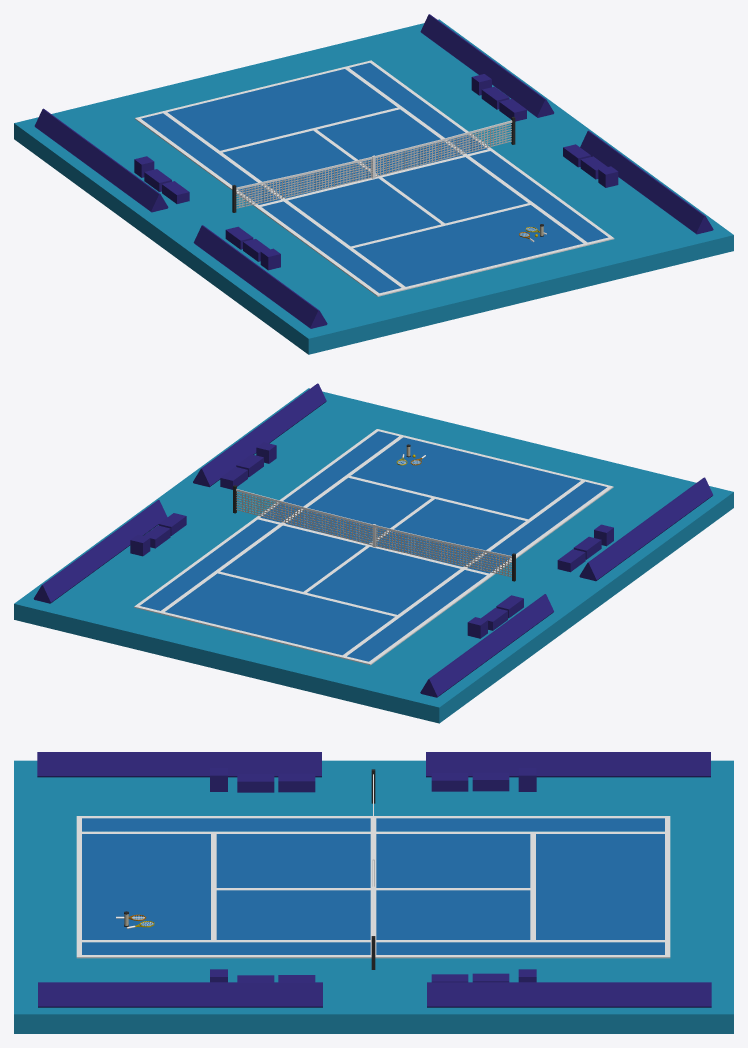
Rendered from tennis-court.zfix-v3.lod0.glb.
3 views of the same model, one above another, from view 1: azimuth 30°, elevation 25°; view 2: azimuth 150°, elevation 25°; view 3: azimuth 270°, elevation 25° (orthographic). The views are drawn at different scales.
Parts seen in each view (by area): view 1: GeoSphere001_yellow_0, Plane034_white_0, Plane035_gray_0; view 2: GeoSphere001_yellow_0, Plane034_white_0, Plane035_gray_0; view 3: GeoSphere001_yellow_0, Plane034_white_0.
Boxes of the visible parts, <box> form: GeoSphere001_yellow_0: <box>14,14,733,354</box>; Plane034_white_0: <box>135,60,614,296</box>; Plane035_gray_0: <box>236,124,511,208</box>; GeoSphere001_yellow_0: <box>14,383,733,723</box>; Plane034_white_0: <box>134,429,613,665</box>; Plane035_gray_0: <box>236,492,511,577</box>; GeoSphere001_yellow_0: <box>14,752,733,1033</box>; Plane034_white_0: <box>76,774,670,958</box>.
Size of the model in its own units: 25.01 by 2.46 by 30.
